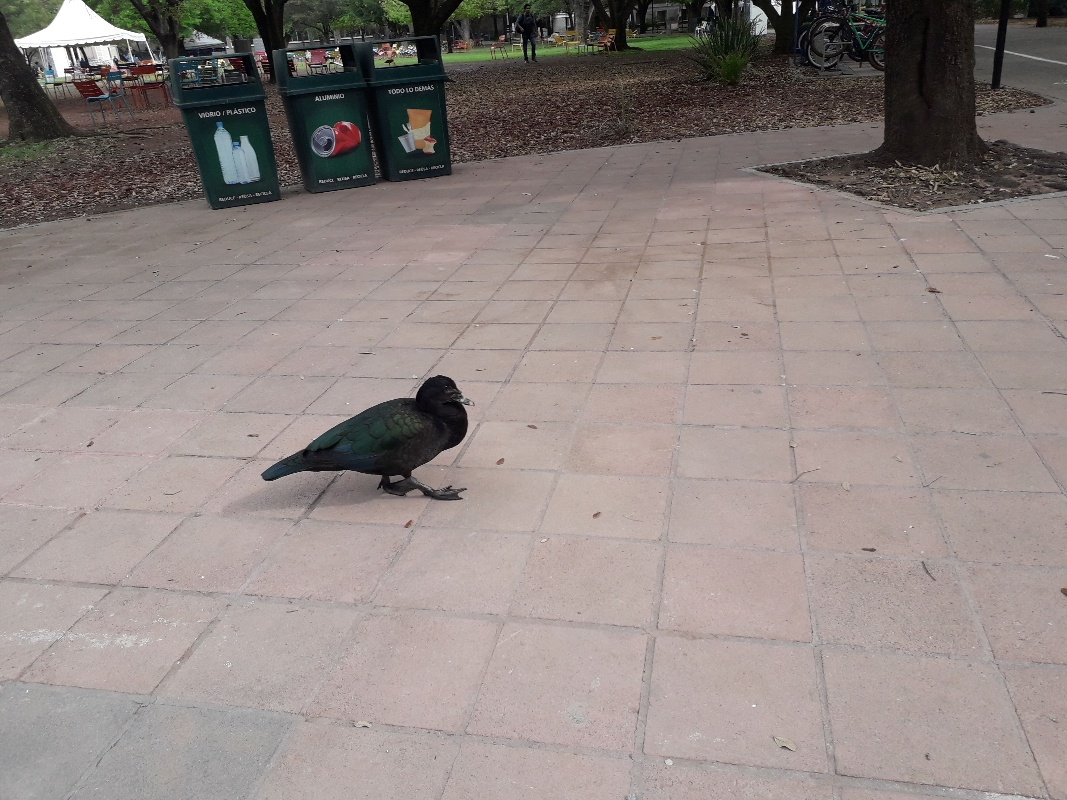pato: (270, 365, 476, 509)
